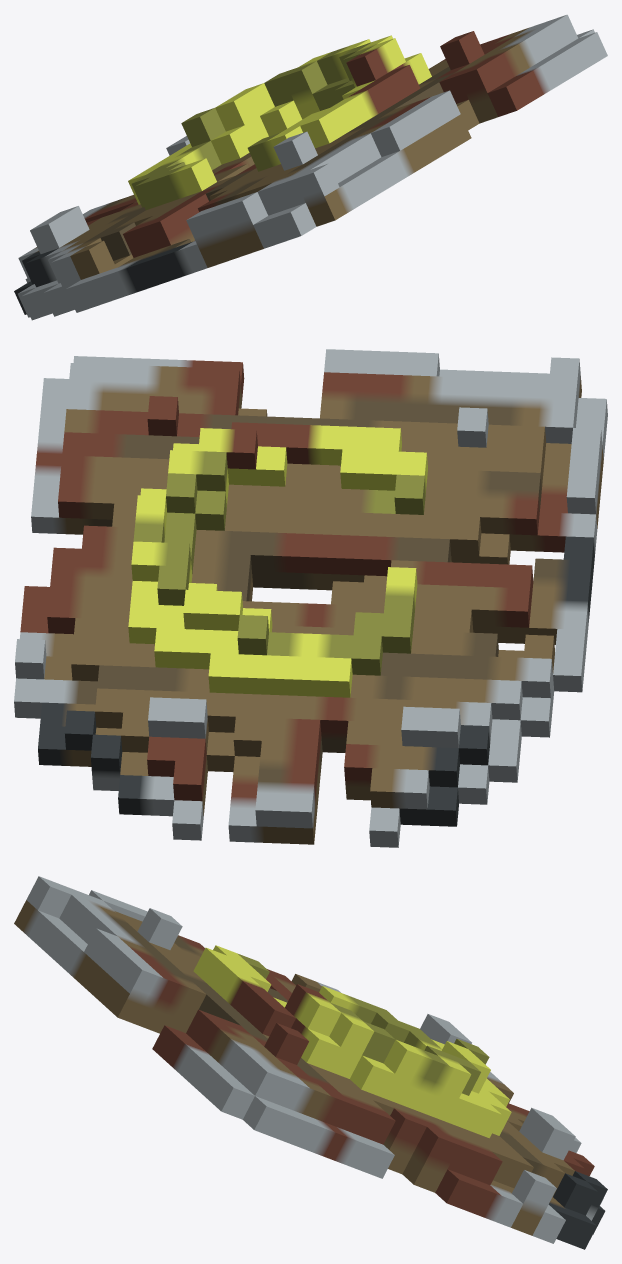
File: skeleton_BrokenSheld.fbx
The picture shows the model from 3 angles, top to bottom: view 1: azimuth 30°, elevation 25°; view 2: azimuth 150°, elevation 25°; view 3: azimuth 270°, elevation 25°; orthographic projection. The views are drawn at different scales.
Parts seen in each view (by area): view 1: Matrix.001; view 2: Matrix.001; view 3: Matrix.001.
Part boxes in pixels (x1,y1,x2,y2): Matrix.001: [14, 14, 607, 320]; Matrix.001: [14, 349, 607, 847]; Matrix.001: [14, 876, 607, 1249].
Bounding box in the file's own units: 22.73 × 11.73 × 21.8.
Materials: 1 (1 with a texture image).
